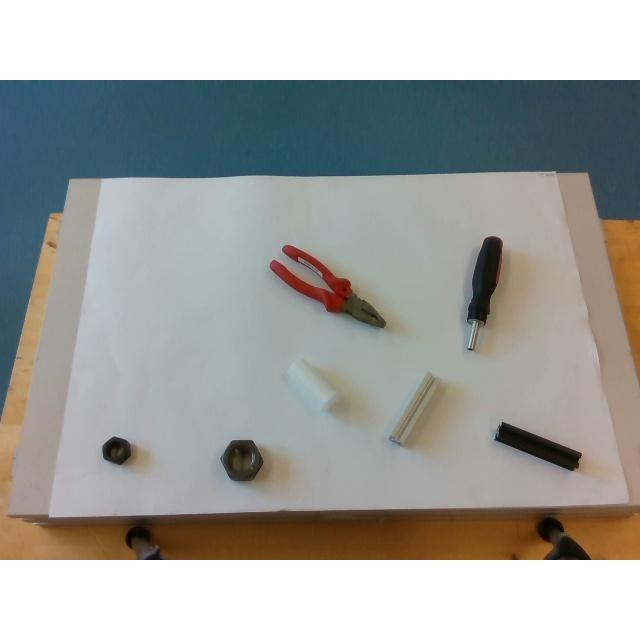F20_20_B: (493, 422, 581, 471)
F20_20_G: (388, 372, 439, 444)
M20: (102, 436, 130, 464)
M30: (222, 440, 262, 480)
Spacer: (283, 358, 337, 414)
